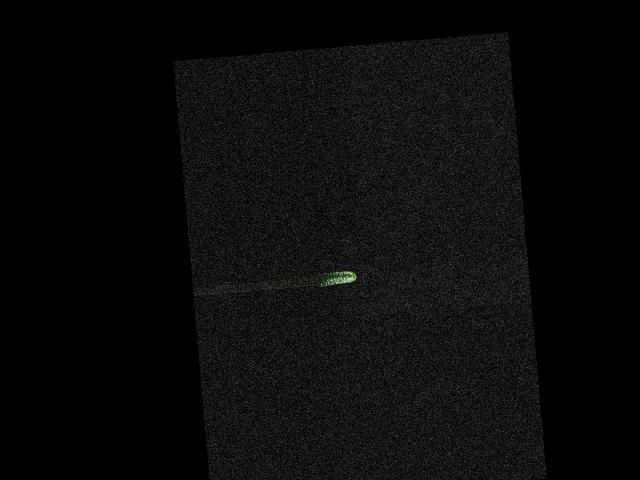cucumber: (314, 270, 357, 288)
